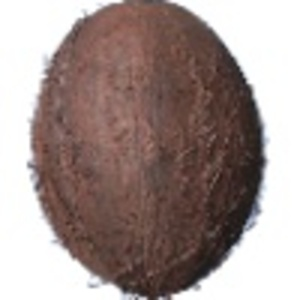coco: (31, 1, 269, 300)
